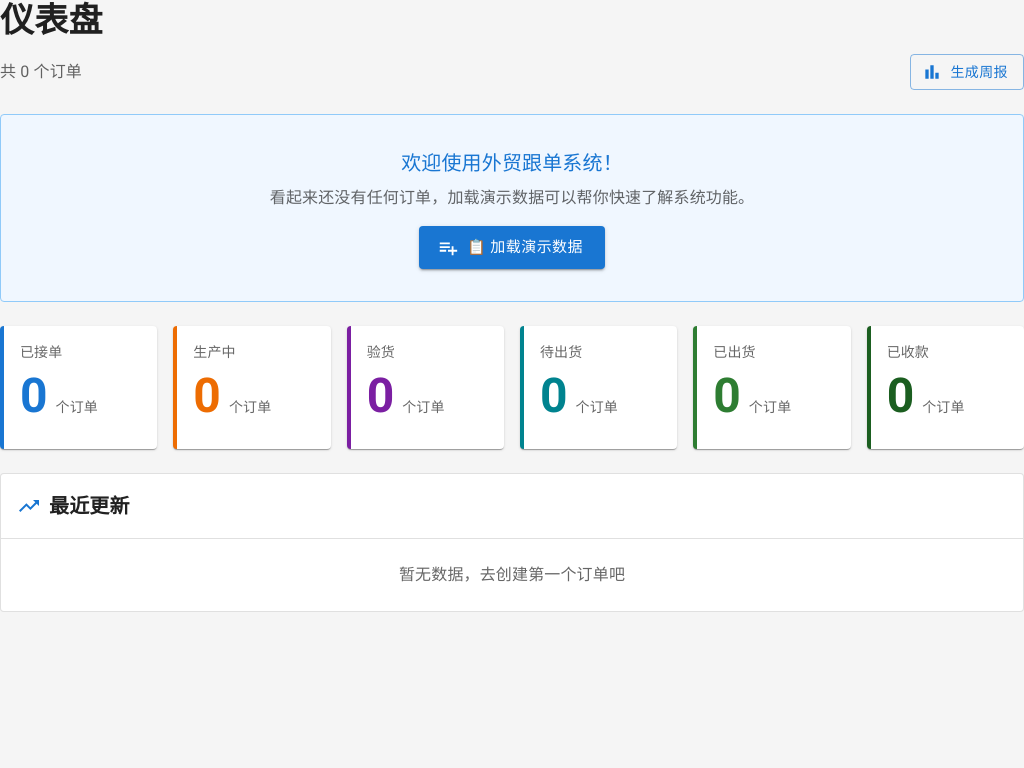
Dashboard 周报一键生成 › AC-1 时间范围选择 › 点击按钮后弹出 Dialog，标题为「📊 生成周报」
What coordinates should you click on to do the following:
click the button "生成周报"
I would click on:
 (967, 72)
Its box is [910,54,1023,90].
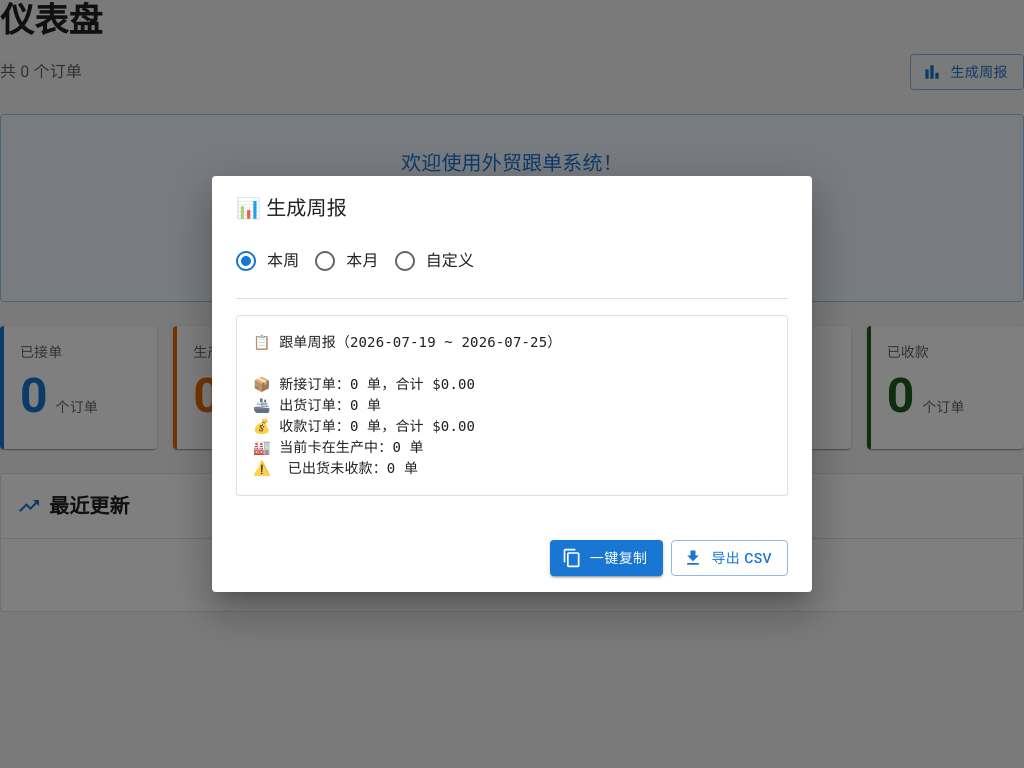
Expected: the dialog is shown, [212,176,812,592]
Expected: the heading "📊 生成周报" is shown, [236,196,347,220]
